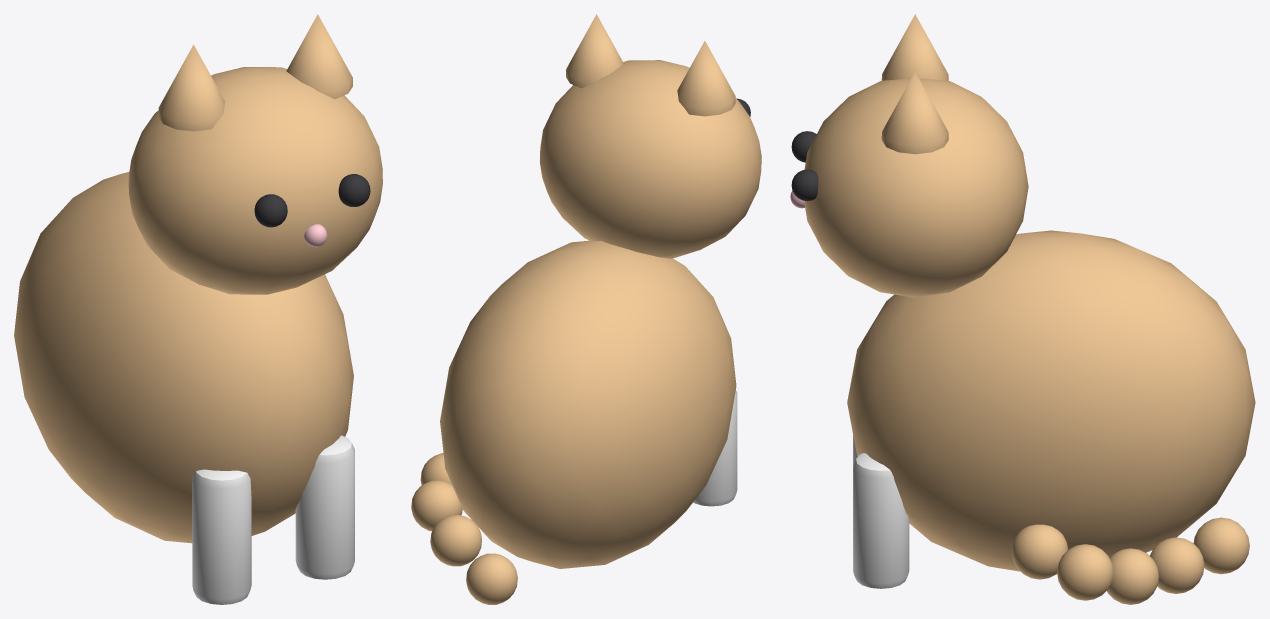
The model's file is neko.glb.
The picture shows the model from 3 angles, left to right: view 1: azimuth 30°, elevation 25°; view 2: azimuth 150°, elevation 25°; view 3: azimuth 270°, elevation 25°; orthographic projection. The views are drawn at different scales.
Visible parts, largest first — view 1: neko; view 2: neko; view 3: neko.
Boxes of the visible parts, left/top/right/bottom form: neko: left=14, top=14, right=382, bottom=604; neko: left=411, top=14, right=761, bottom=604; neko: left=790, top=14, right=1255, bottom=604.
Bounding box in the file's own units: 0.2921 × 0.5075 × 0.41.
